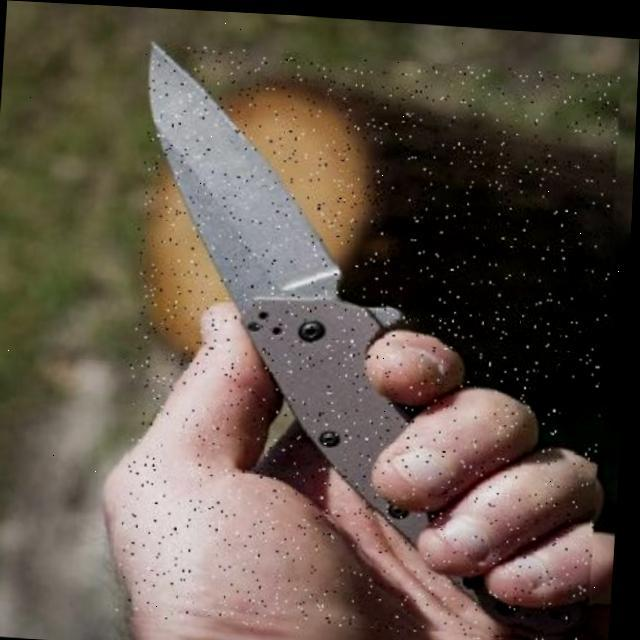knife: (119, 40, 620, 640)
